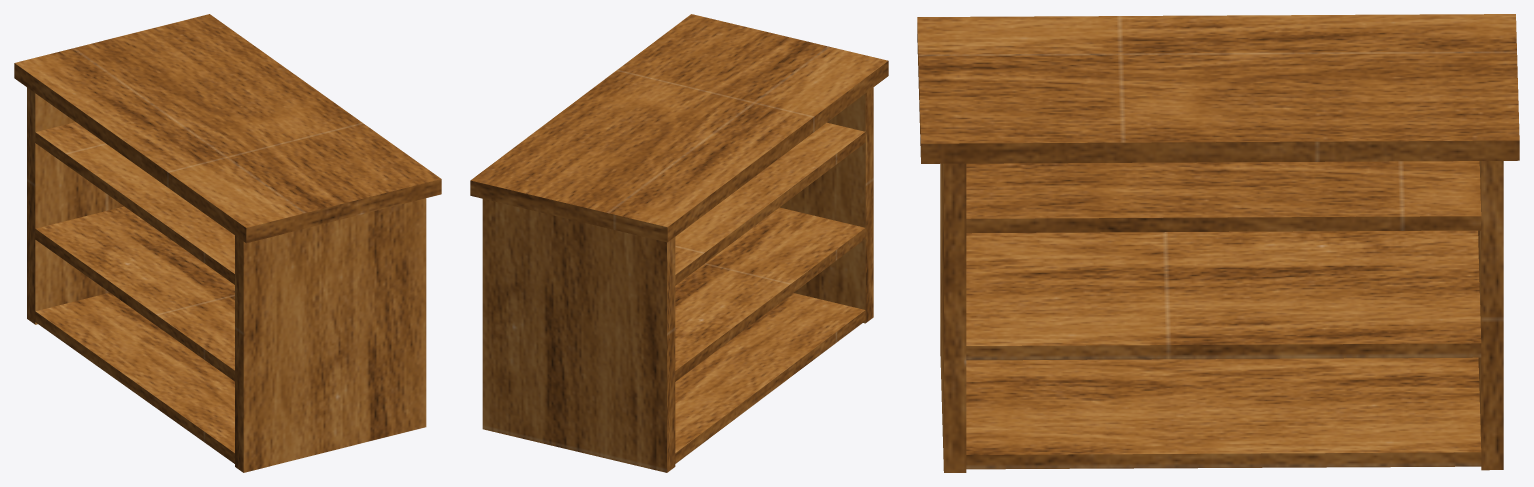
File: cabinet4.fbx
3 renders of one model, left to right at view 1: azimuth 30°, elevation 25°; view 2: azimuth 150°, elevation 25°; view 3: azimuth 270°, elevation 25°, orthographic. The views are drawn at different scales.
Parts seen in each view (by area): view 1: pCube815.011; view 2: pCube815.011; view 3: pCube815.011.
Part boxes in pixels (left/top/right/bottom): pCube815.011: left=14, top=14, right=441, bottom=472; pCube815.011: left=470, top=14, right=888, bottom=472; pCube815.011: left=917, top=14, right=1519, bottom=472.
Bounding box in the file's own units: 0.6676 × 0.8004 × 1.31.
1 material, 1 textured.
